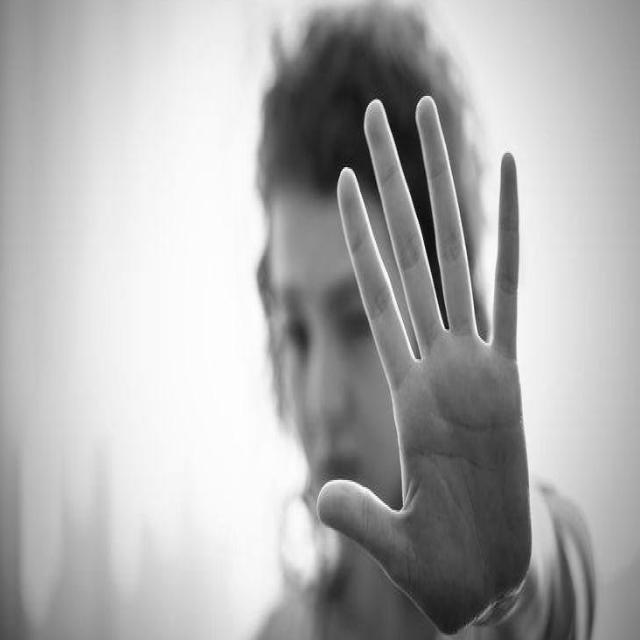stop: (315, 85, 535, 640)
